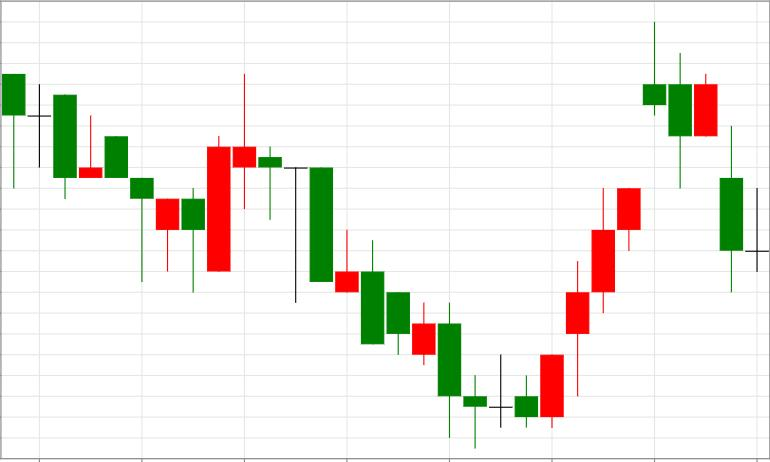hammer_rise: (3, 74, 178, 282)
three_white_soldiers_rise: (259, 146, 642, 448)
